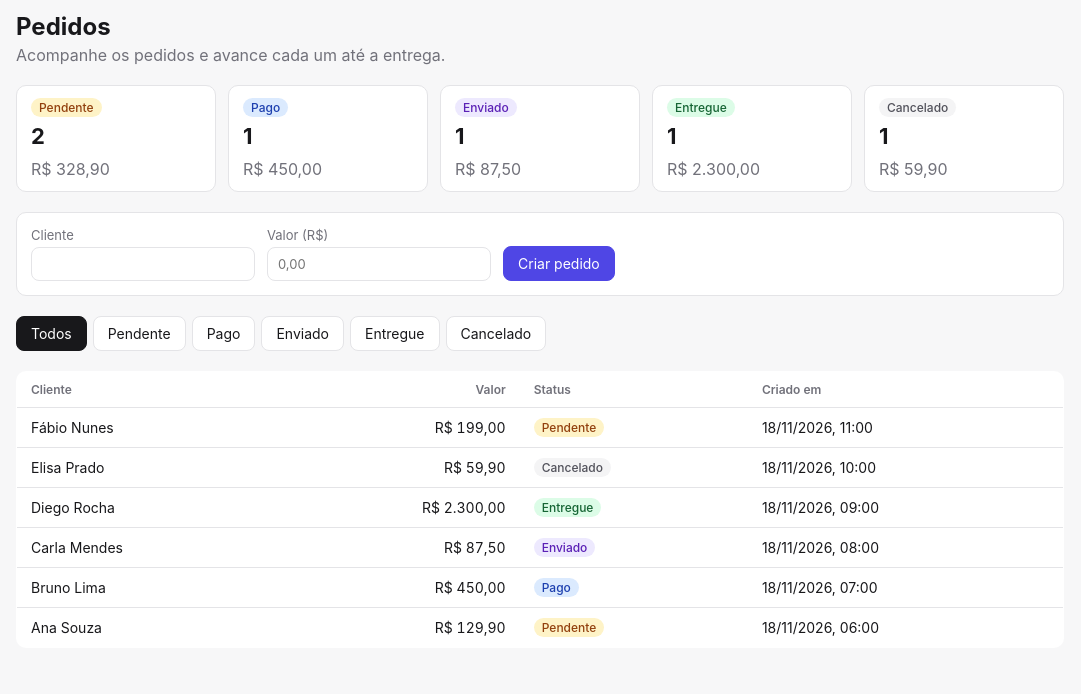
Scenario: painel de pedidos › cria um pedido pendente e valida o formulário
Expected: the text "Fábio Nunes" is shown, [16,408,278,448]
Click the button "Criar pedido" at (559, 264), box [503,246,615,281]
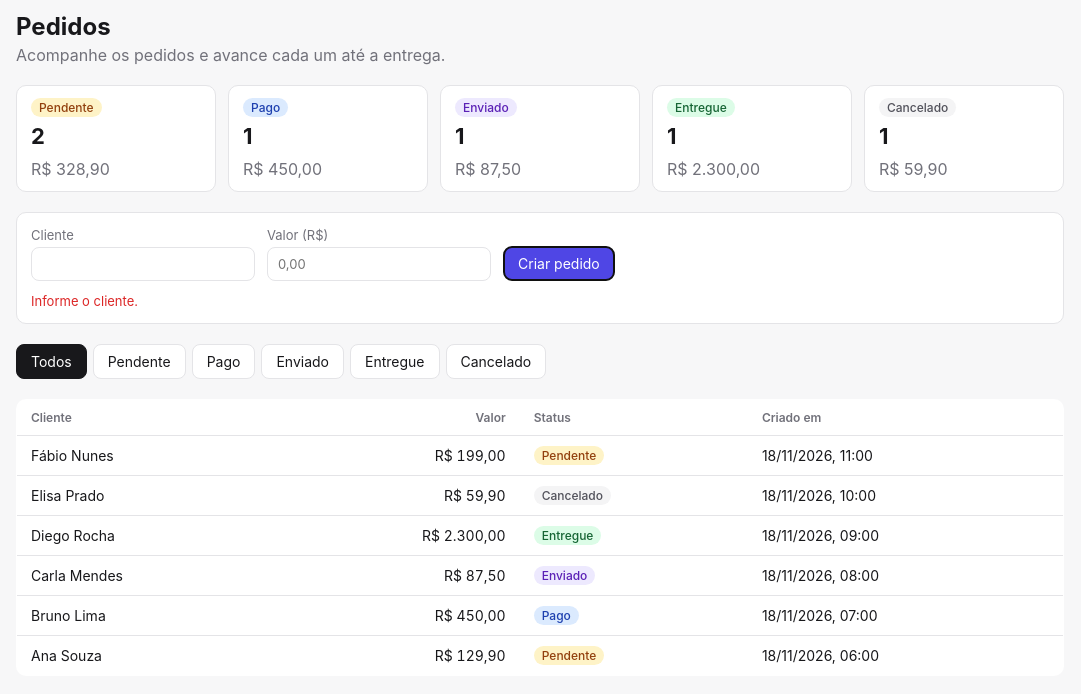
Expected: the message reads "Informe o cliente.", [31,293,138,309]
Type "Gabi Torres" into the field labelled "Cliente" at (143, 264), box [31,247,255,281]
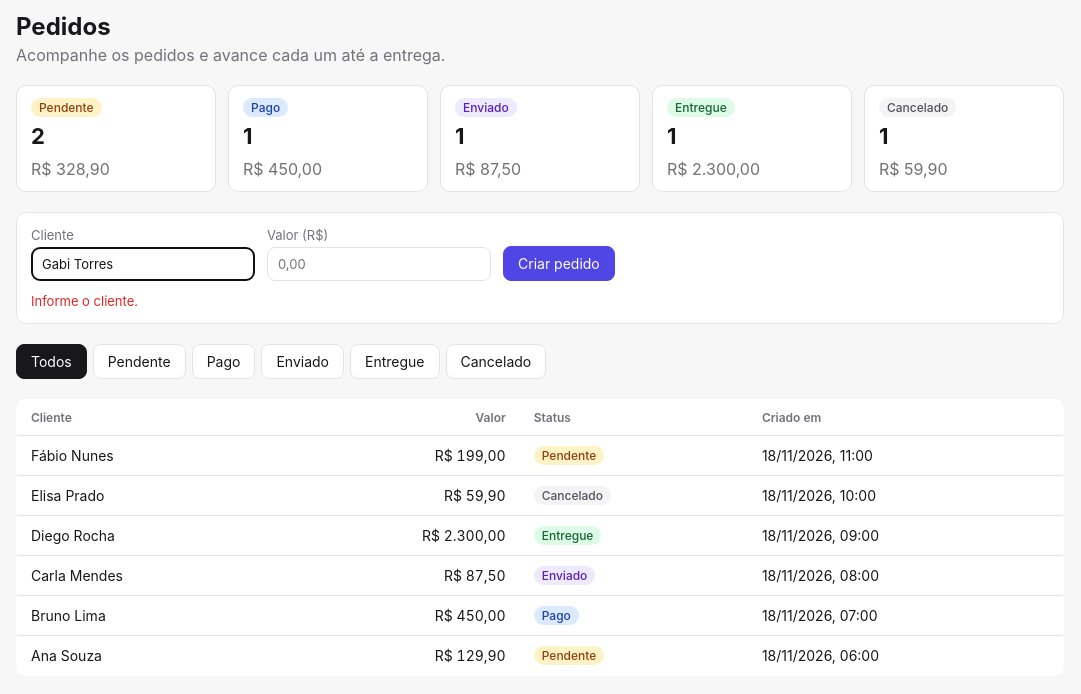
Type "0" into the field labelled "Valor (R$)" at (379, 264), box [267,247,491,281]
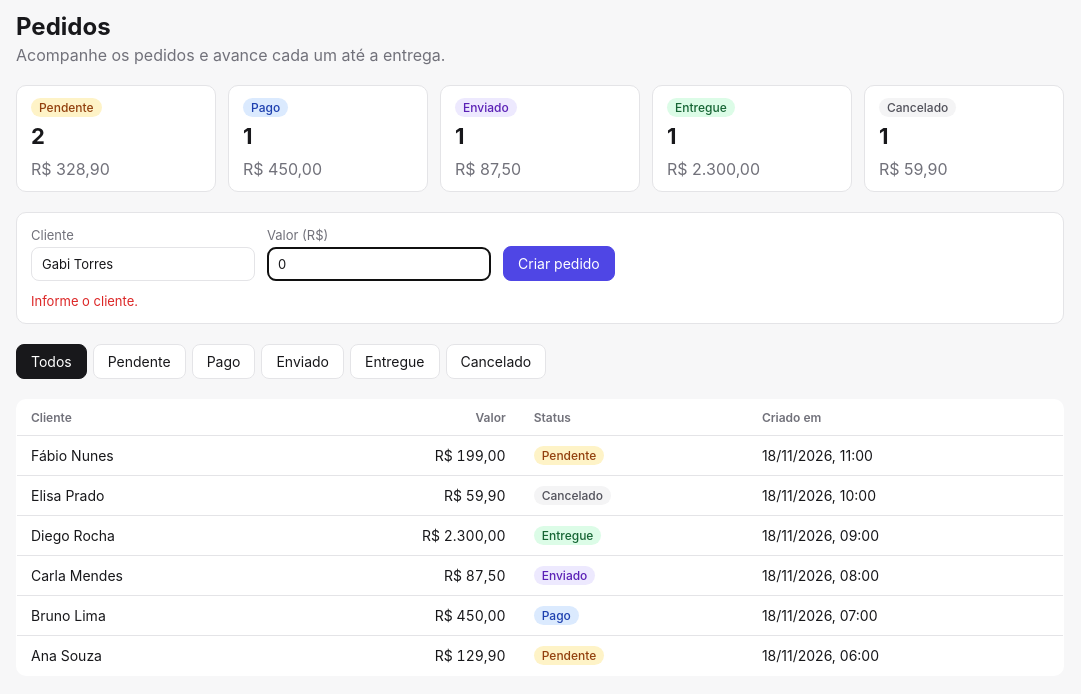
Click the button "Criar pedido" at (559, 264), box [503,246,615,281]
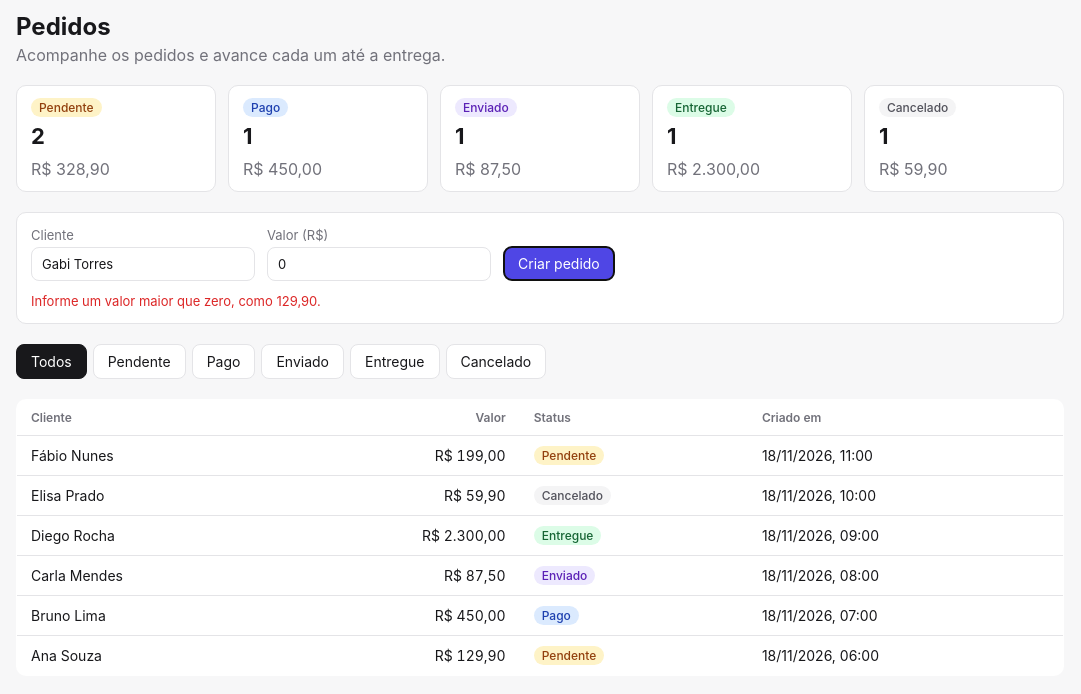
Expected: the message shows "maior que zero", [31,293,321,309]
Replace the text in the field labelled "Valor (R$)" with "99,90" at (379, 264), box [267,247,491,281]
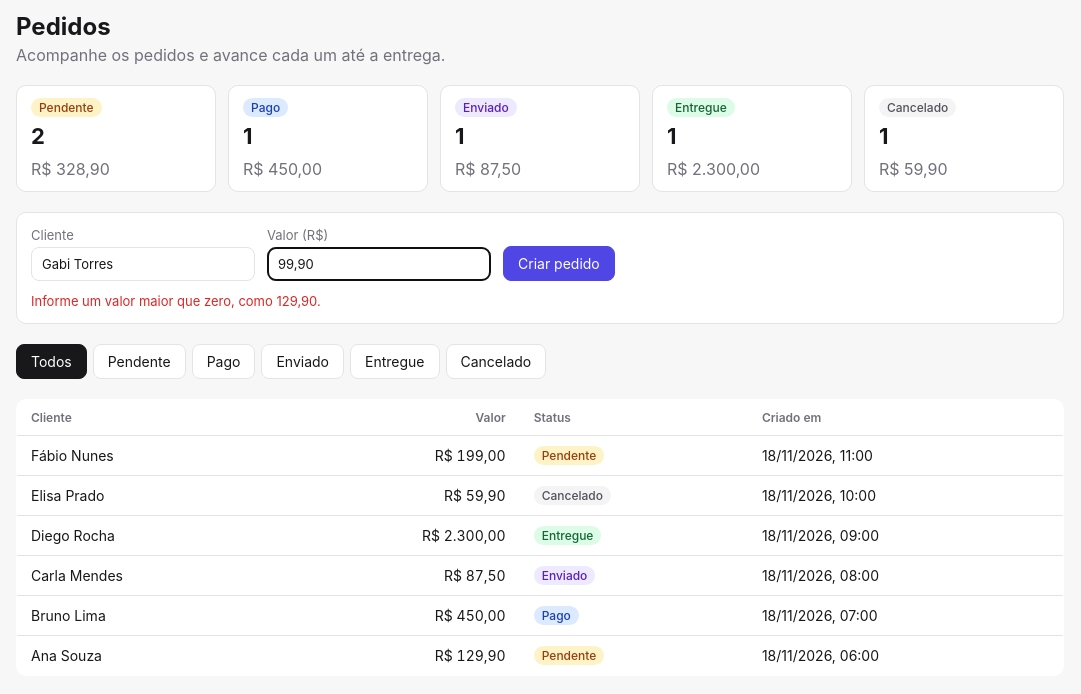
Click the button "Criar pedido" at (559, 264), box [503,246,615,281]
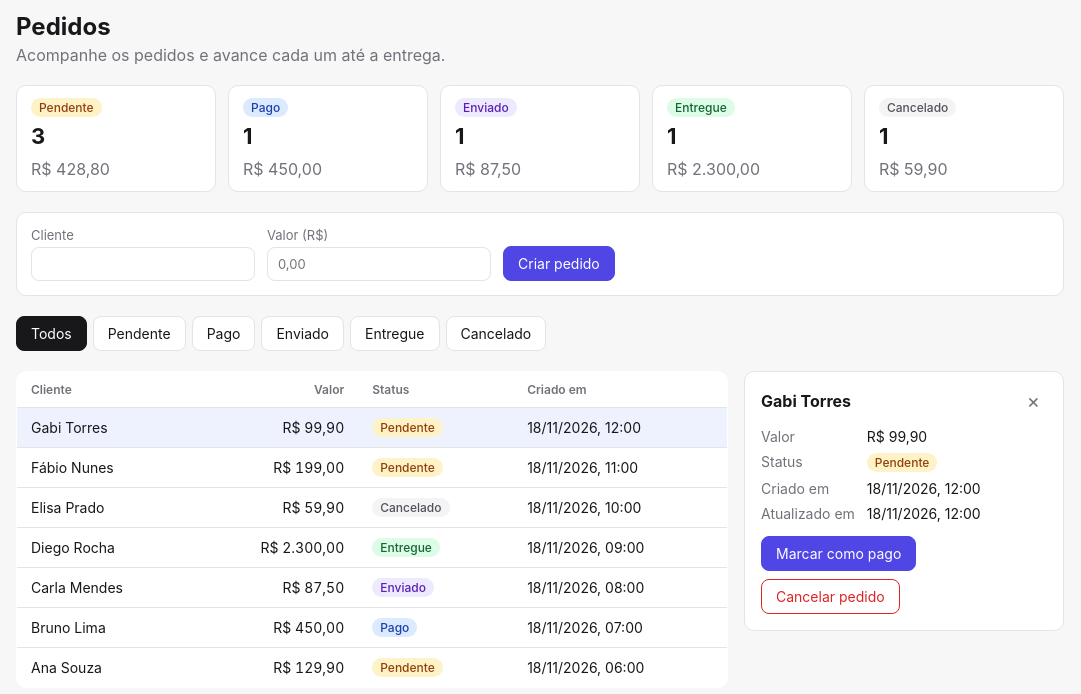
Expected: the 4th text "Pendente" is shown, [867,453,937,472]
Expected: the text "R$ 99,90" is shown, [867,428,927,445]
